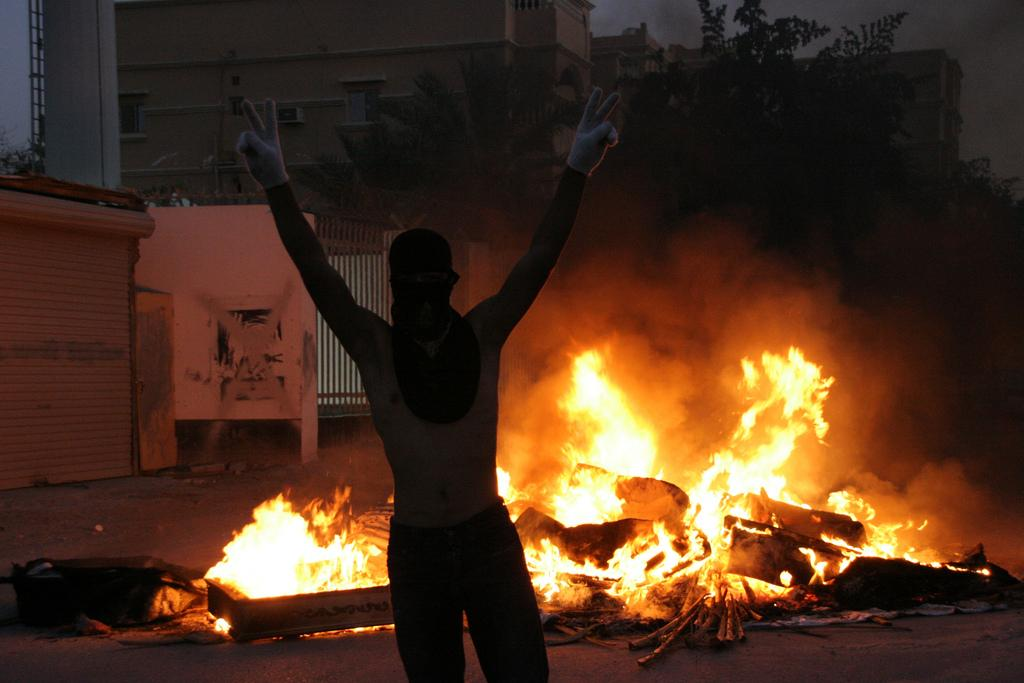fire: (693, 360, 815, 533), (560, 348, 648, 520), (220, 513, 345, 587), (550, 550, 685, 590)
